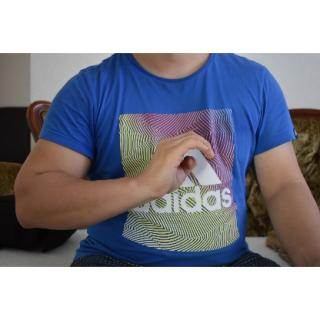JEEM: (131, 128, 217, 205)
